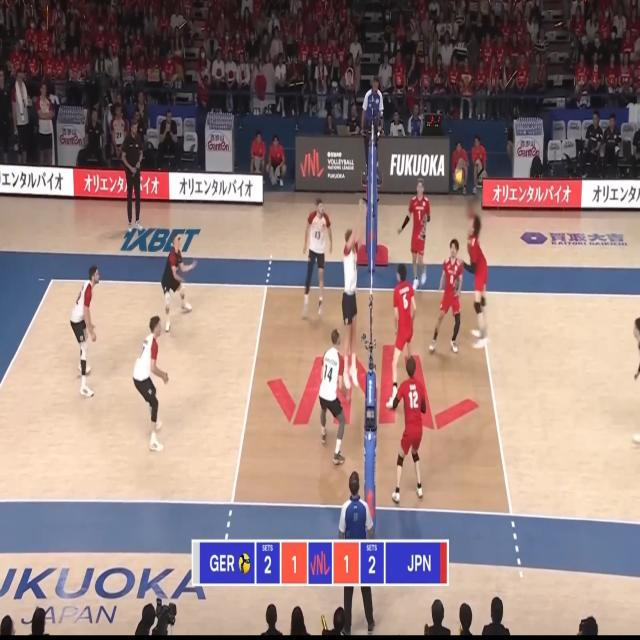ball: (456, 166, 462, 183)
